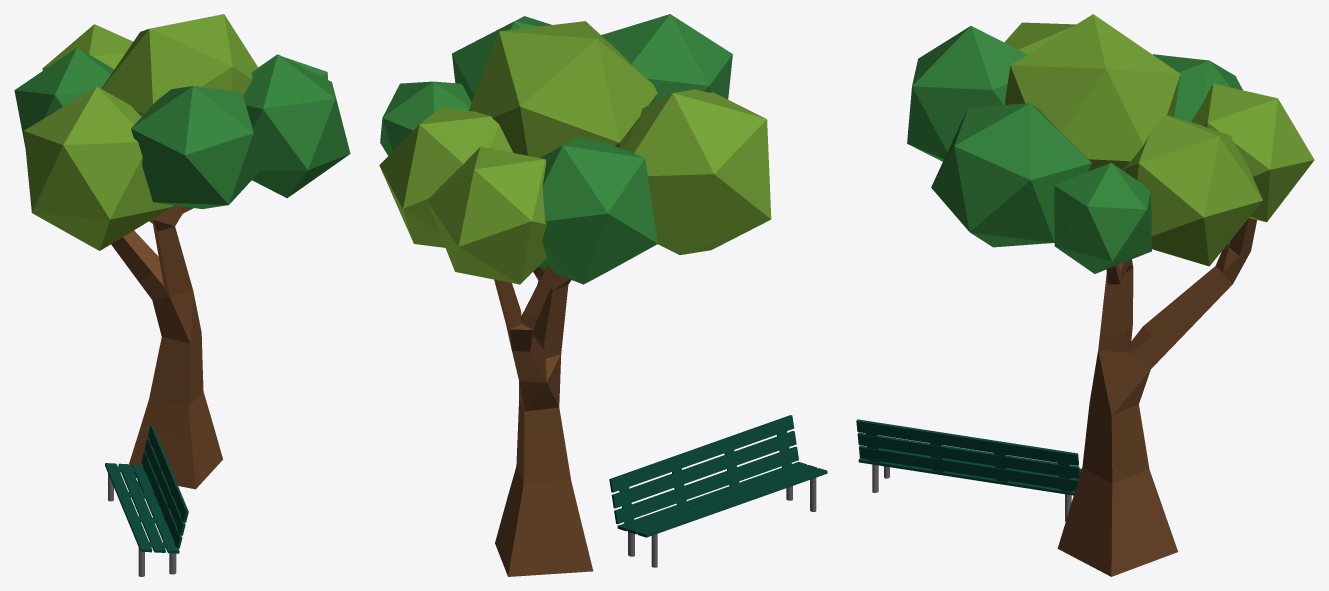
Rendered from park.gltf.
The picture shows the model from 3 angles, left to right: view 1: azimuth 30°, elevation 25°; view 2: azimuth 150°, elevation 25°; view 3: azimuth 270°, elevation 25°; orthographic projection. The views are drawn at different scales.
Visible parts, largest first — view 1: Icosphere.001, Cube, Icosphere.007, Icosphere.006, Icosphere.004, Icosphere.003, Cube.002, Cube.001, Icosphere.002; view 2: Icosphere.001, Cube, Icosphere.004, Icosphere.003, Icosphere.002, Cube.001, Icosphere.005, Icosphere.007, Cube.002, Icosphere, Icosphere.006; view 3: Cube, Icosphere.004, Icosphere.006, Icosphere.005, Icosphere.007, Icosphere, Cube.001, Icosphere.002, Icosphere.003, Icosphere.001, Cube.002.
Boxes of the visible parts, x1=… form: Icosphere.001: x1=24, y1=86, x2=172, y2=250; Cube: x1=111, y1=205, x2=222, y2=489; Icosphere.007: x1=131, y1=86, x2=264, y2=209; Icosphere.006: x1=243, y1=54, x2=350, y2=198; Icosphere.004: x1=101, y1=14, x2=258, y2=116; Icosphere.003: x1=14, y1=47, x2=114, y2=148; Cube.002: x1=105, y1=463, x2=179, y2=553; Cube.001: x1=141, y1=425, x2=188, y2=548; Icosphere.002: x1=42, y1=24, x2=133, y2=70; Icosphere.001: x1=623, y1=89, x2=771, y2=254; Cube: x1=494, y1=265, x2=593, y2=576; Icosphere.004: x1=468, y1=21, x2=657, y2=157; Icosphere.003: x1=538, y1=137, x2=657, y2=284; Icosphere.002: x1=427, y1=146, x2=547, y2=284; Cube.001: x1=609, y1=415, x2=798, y2=524; Icosphere.005: x1=379, y1=107, x2=513, y2=247; Icosphere.007: x1=601, y1=14, x2=732, y2=101; Cube.002: x1=617, y1=461, x2=827, y2=537; Icosphere: x1=380, y1=81, x2=471, y2=155; Icosphere.006: x1=452, y1=16, x2=551, y2=101; Cube: x1=1057, y1=218, x2=1256, y2=576; Icosphere.004: x1=1005, y1=14, x2=1180, y2=171; Icosphere.006: x1=931, y1=103, x2=1091, y2=247; Icosphere.005: x1=1122, y1=115, x2=1262, y2=266; Icosphere.007: x1=907, y1=26, x2=1027, y2=161; Icosphere: x1=1054, y1=162, x2=1151, y2=273; Cube.001: x1=856, y1=419, x2=1079, y2=490; Icosphere.002: x1=1191, y1=83, x2=1314, y2=222; Icosphere.003: x1=1153, y1=54, x2=1242, y2=121; Icosphere.001: x1=1004, y1=22, x2=1075, y2=54; Cube.002: x1=858, y1=448, x2=1081, y2=495.
Bounding box in the file's own units: 5.45 × 7.49 × 6.01.
